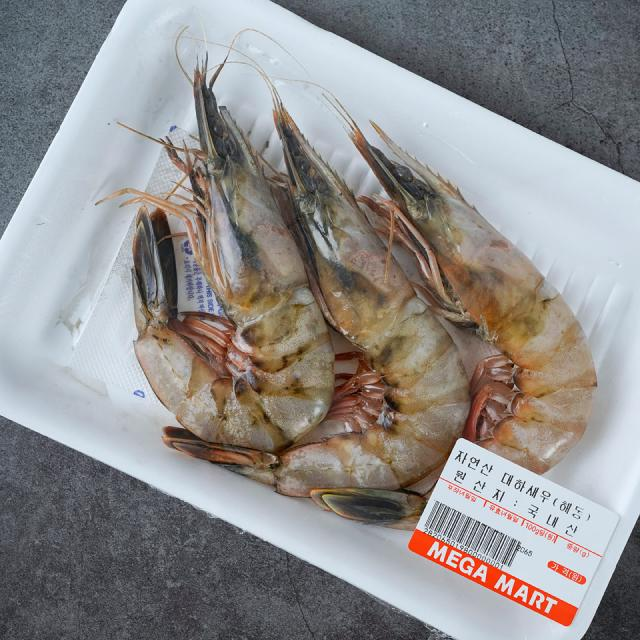shrimp: (99, 47, 612, 531)
